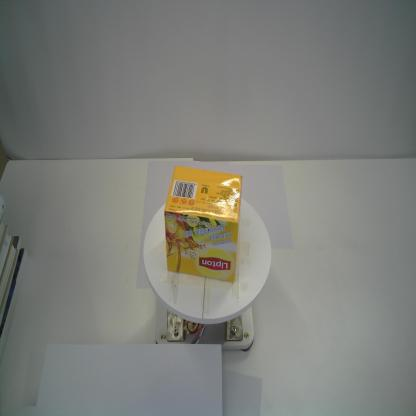Instant Drink: (162, 164, 243, 283)
